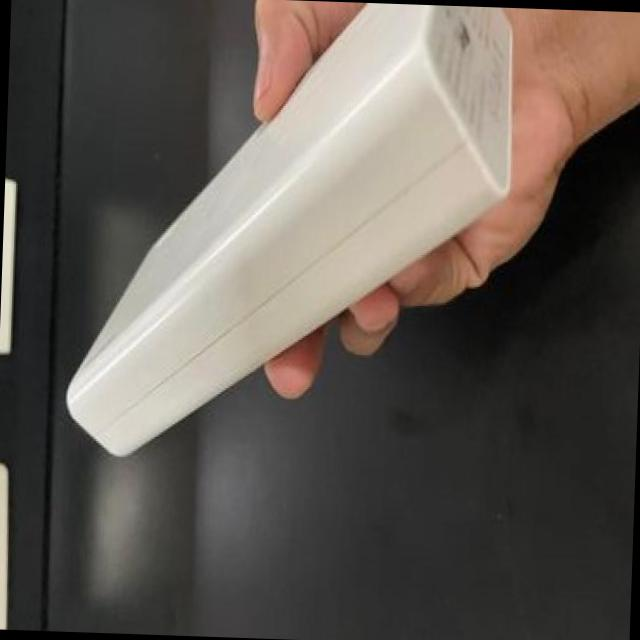power_bank: (49, 0, 546, 546)
